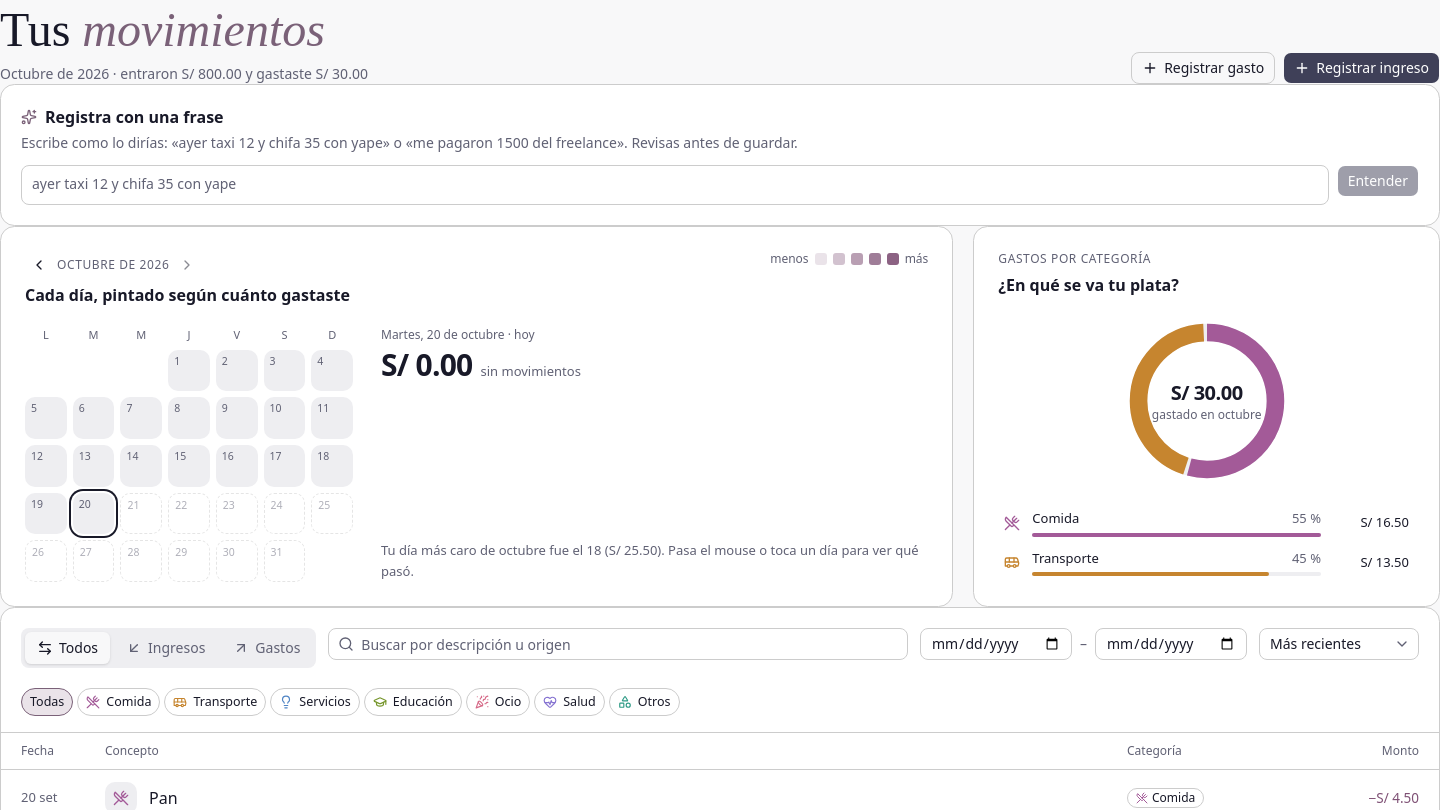
Test case: MovementsLayout › registrar un gasto abre su formulario sin salir de Todos
This screenshot has width=1440, height=810.
Click the button "Registrar gasto" at [1203, 68], box [1131, 52, 1275, 84]
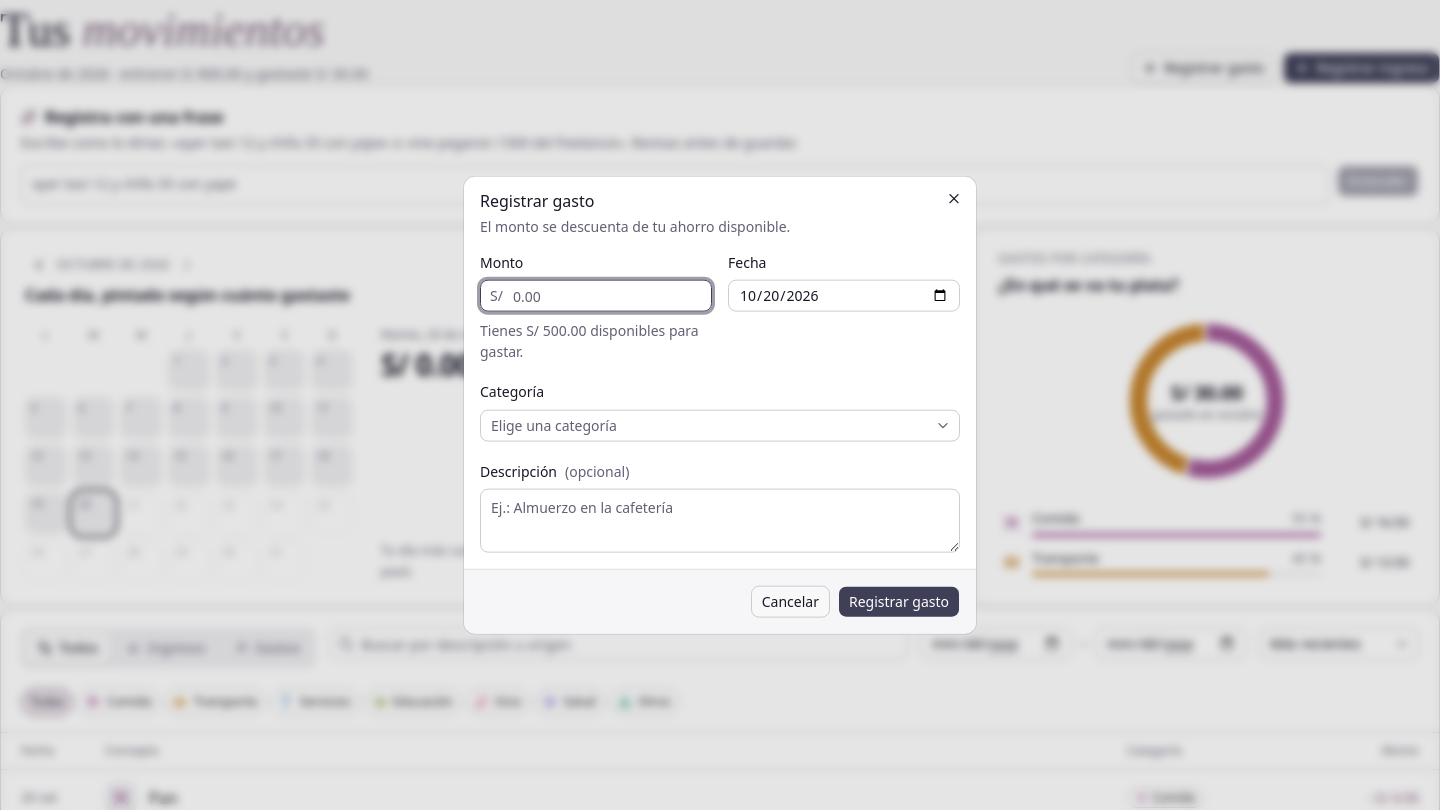
Check: the dialog "Registrar gasto" is shown, box [464, 177, 976, 633]
